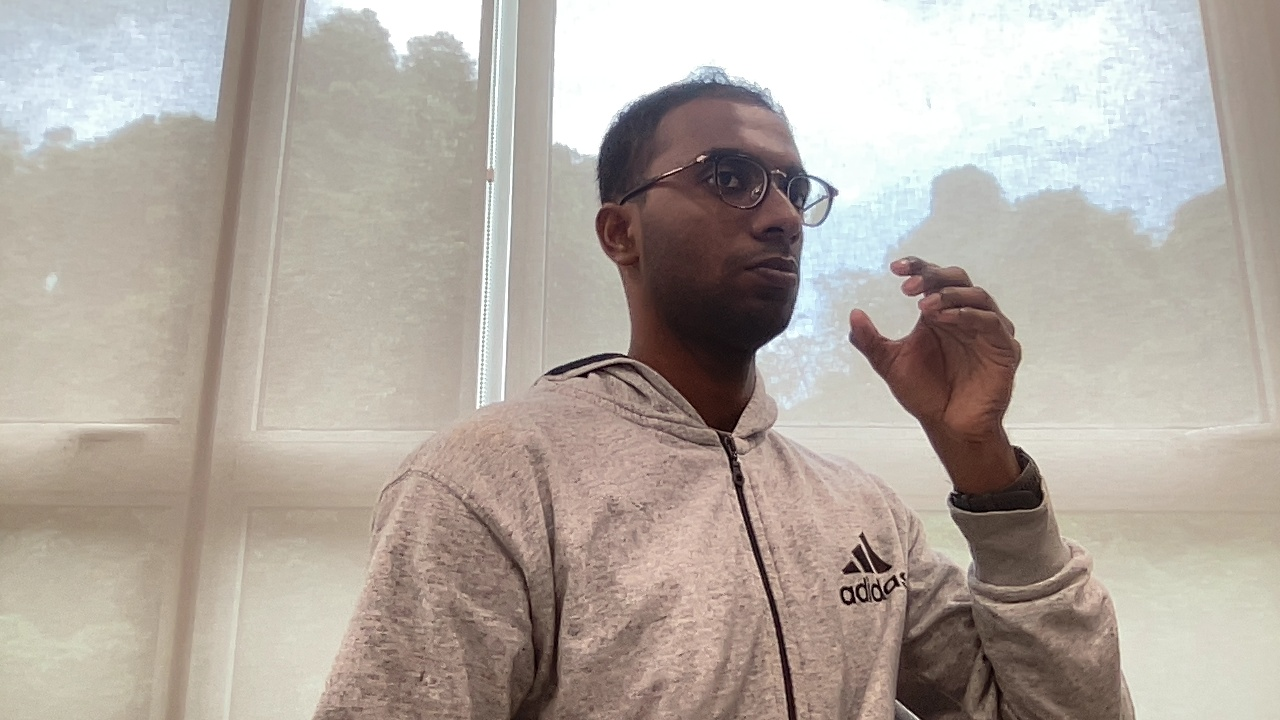drink: (846, 251, 1034, 446)
